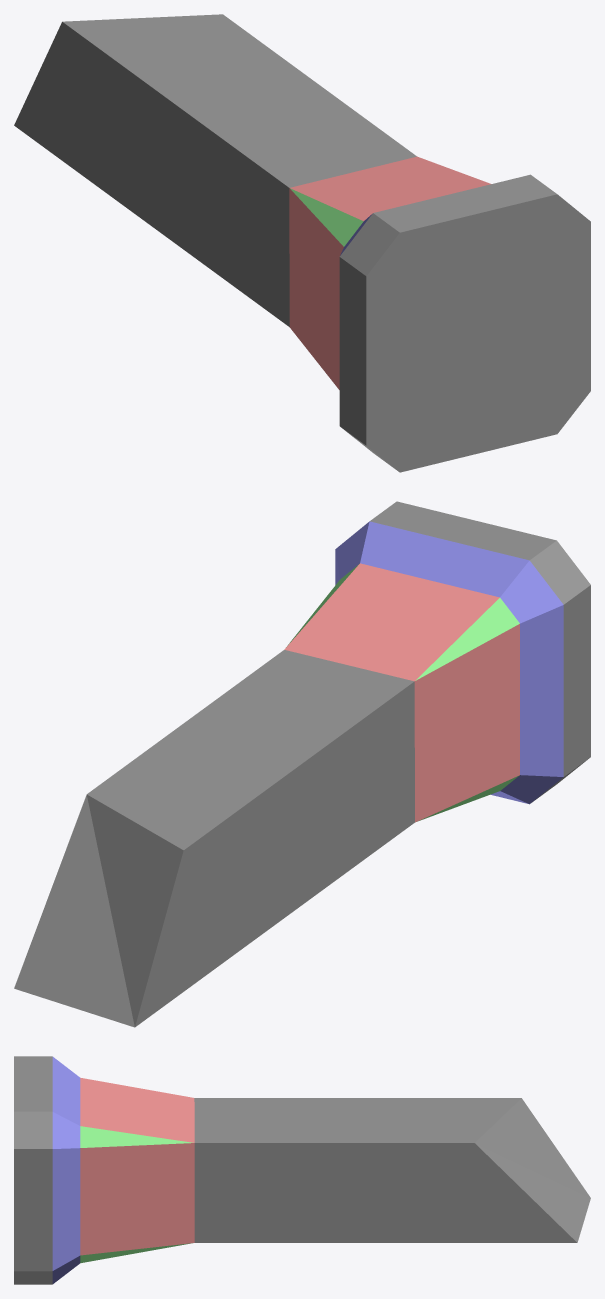
Rendered from world_obj20.gltf.
3 views of the same model, one above another, from view 1: azimuth 30°, elevation 25°; view 2: azimuth 150°, elevation 25°; view 3: azimuth 270°, elevation 25° (orthographic). The views are drawn at different scales.
Visible parts, largest first — view 1: world_obj20; view 2: world_obj20; view 3: world_obj20.
Boxes of the visible parts, x1=… form: world_obj20: x1=14, y1=14, x2=590, y2=472; world_obj20: x1=14, y1=501, x2=590, y2=1027; world_obj20: x1=14, y1=1056, x2=590, y2=1284.
Bounding box in the file's own units: 0.3722 × 0.3801 × 1.15.
